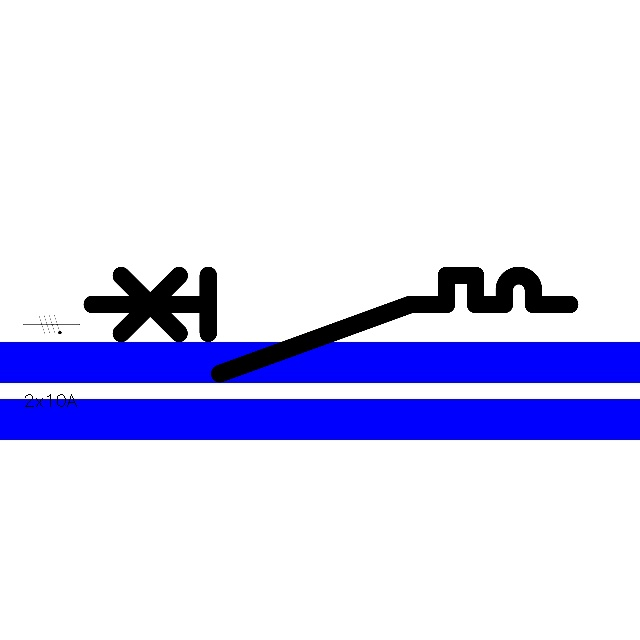interruptor_termomagnetico: (79, 263, 581, 386)
